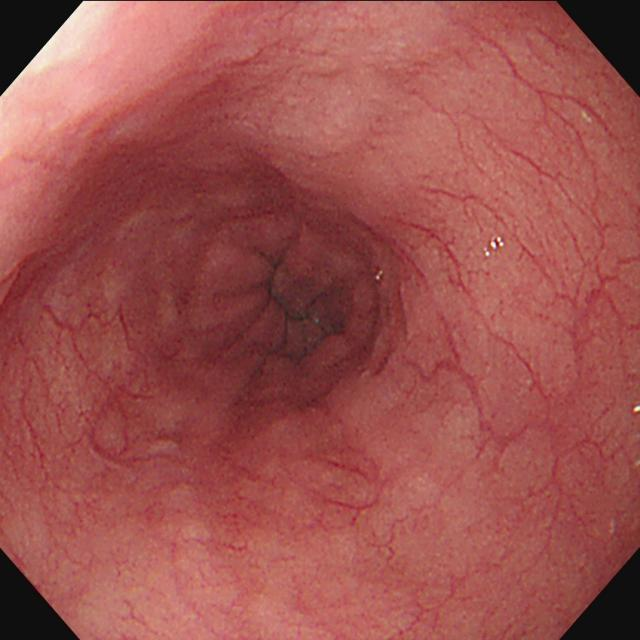I: (194, 218, 376, 382)
